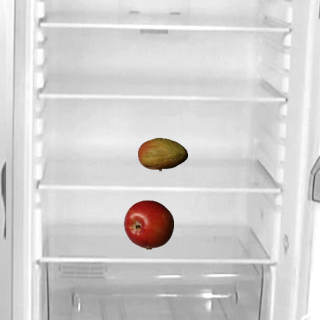Apple Braeburn: (123, 199, 173, 249)
Papaya: (137, 129, 187, 179)
